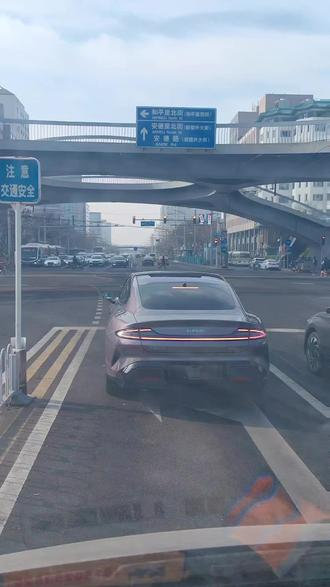su7: (105, 269, 267, 396)
